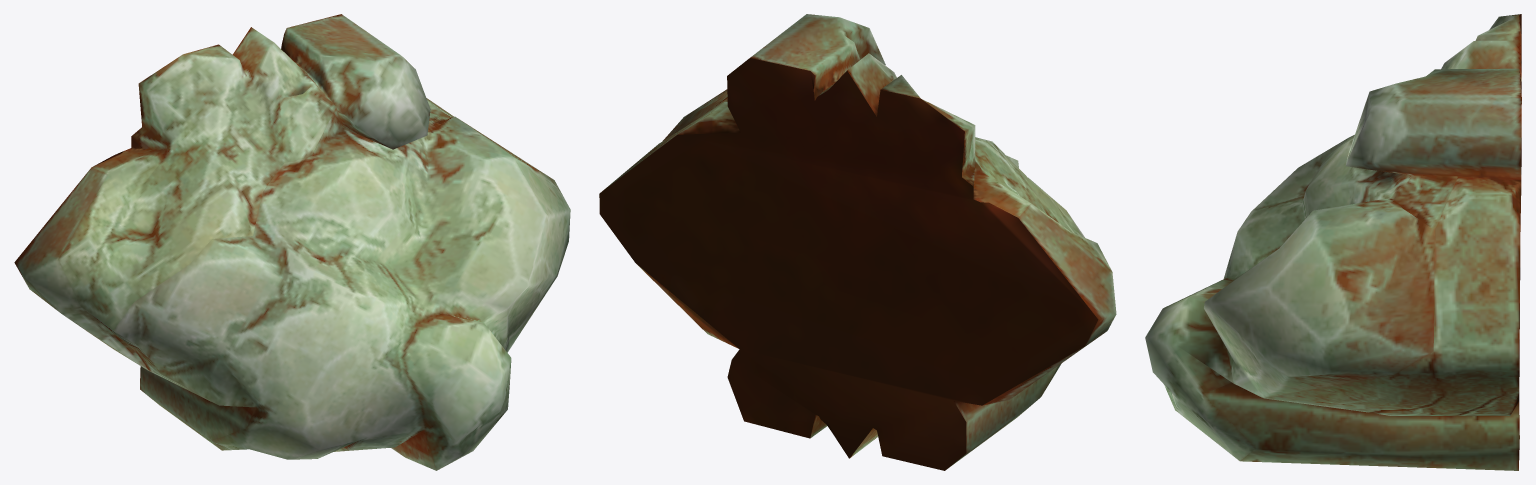
File: Ruins_Collumn_Dmg_C.fbx
3 views of the same model, side by side, from view 1: azimuth 30°, elevation 25°; view 2: azimuth 150°, elevation 25°; view 3: azimuth 270°, elevation 25° (orthographic). The views are drawn at different scales.
Visible parts, largest first — view 1: Ruins_Collumn_Dmg_C; view 2: Ruins_Collumn_Dmg_C; view 3: Ruins_Collumn_Dmg_C.
Boxes of the visible parts, bbox=[...] form: Ruins_Collumn_Dmg_C: bbox=[14, 14, 570, 470]; Ruins_Collumn_Dmg_C: bbox=[599, 14, 1116, 470]; Ruins_Collumn_Dmg_C: bbox=[1145, 14, 1521, 470].
Bounding box in the file's own units: 424 × 313 × 272.
